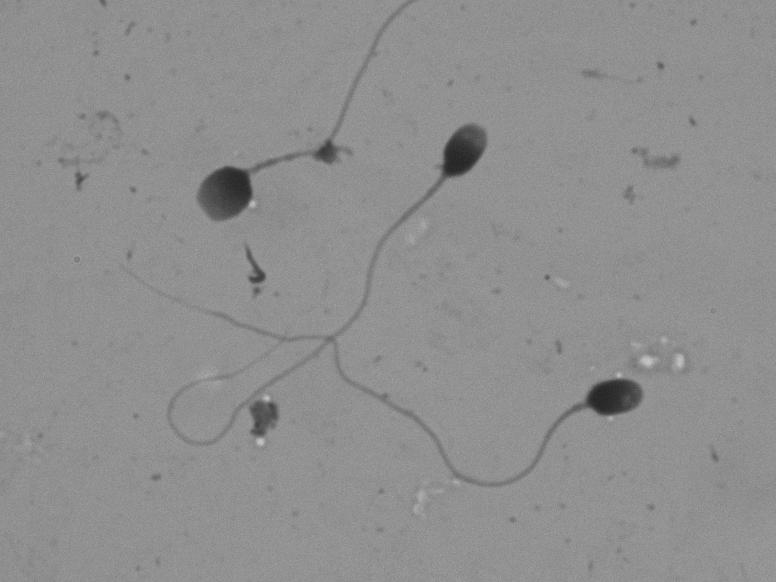Abnormal: (115, 18, 404, 236)
Normal: (93, 266, 683, 520), (352, 106, 519, 510)
